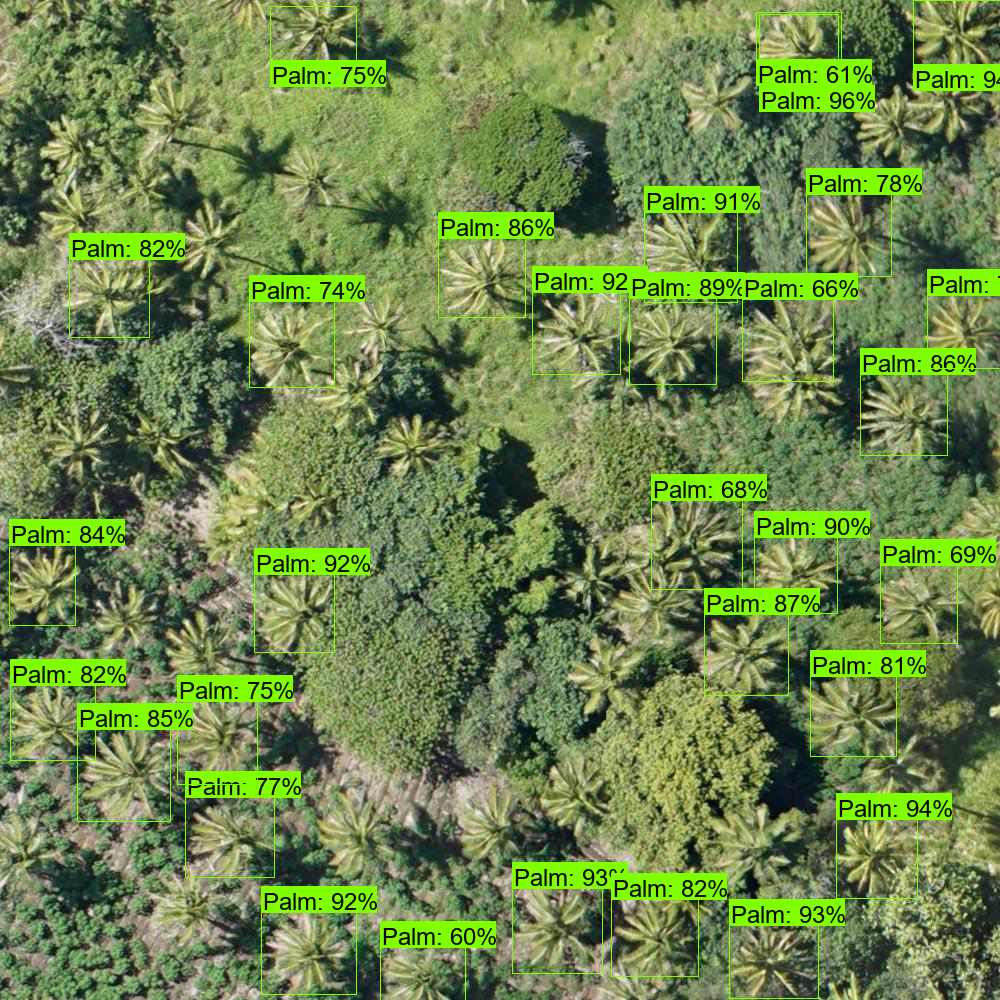not plam: (583, 112, 675, 200), (113, 497, 195, 579), (45, 20, 128, 99), (156, 325, 235, 405), (490, 127, 571, 202), (920, 893, 1000, 968), (376, 510, 453, 584), (430, 10, 513, 78), (13, 916, 86, 993), (549, 433, 626, 504), (365, 100, 439, 173), (544, 28, 623, 95), (372, 659, 446, 728), (462, 653, 532, 725), (468, 540, 540, 607), (648, 722, 722, 787), (805, 459, 878, 524)
